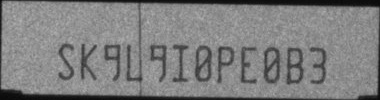0: (263, 45, 281, 84), (194, 44, 212, 82)
3: (309, 45, 328, 85)
9: (149, 43, 167, 82), (104, 43, 122, 81)
B: (285, 46, 304, 84)
E: (240, 44, 258, 84)
I: (172, 43, 190, 82)
K: (80, 42, 98, 81)
L: (126, 44, 143, 82)
P: (216, 44, 234, 84)
S: (57, 43, 76, 80)
